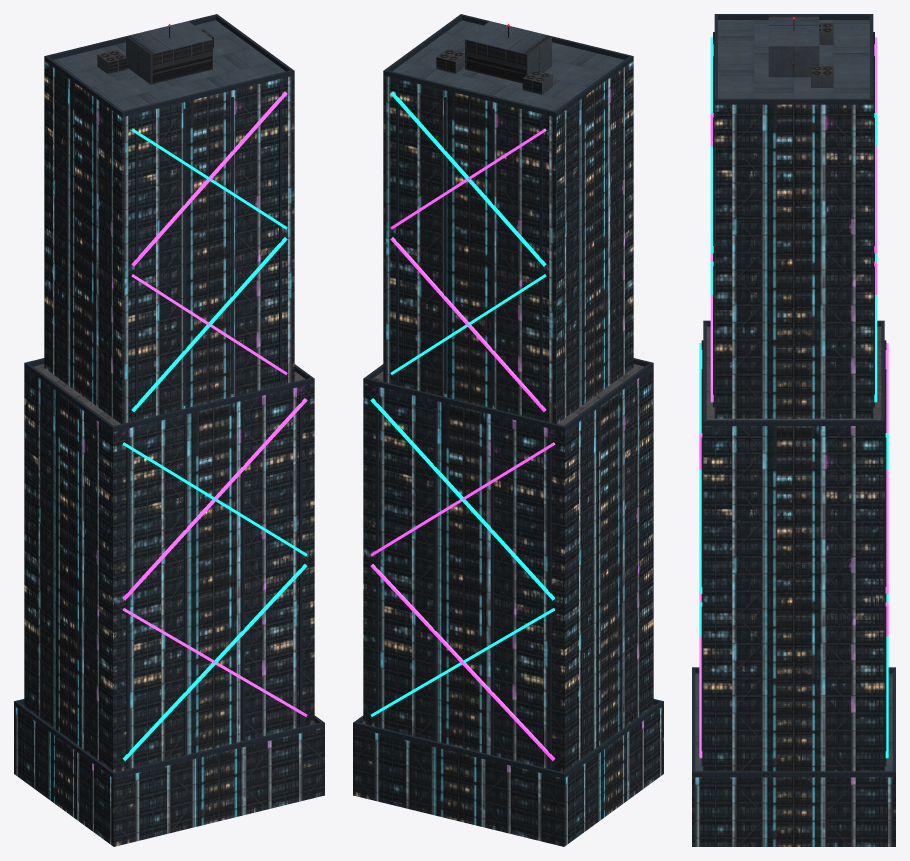
Rendered from commercial-exoskeleton-02.glb.
3 renders of one model, left to right at view 1: azimuth 30°, elevation 25°; view 2: azimuth 150°, elevation 25°; view 3: azimuth 270°, elevation 25°, orthographic. The views are drawn at different scales.
Parts seen in each view (by area): view 1: commercial-exoskeleton-02; view 2: commercial-exoskeleton-02; view 3: commercial-exoskeleton-02.
Part boxes in pixels (x1,y1,x2,y2): commercial-exoskeleton-02: (14,14,324,846); commercial-exoskeleton-02: (353,14,663,846); commercial-exoskeleton-02: (692,14,895,846).
Size of the model in its own units: 44 by 152 by 36.
Materials: 1 (1 with a texture image).
